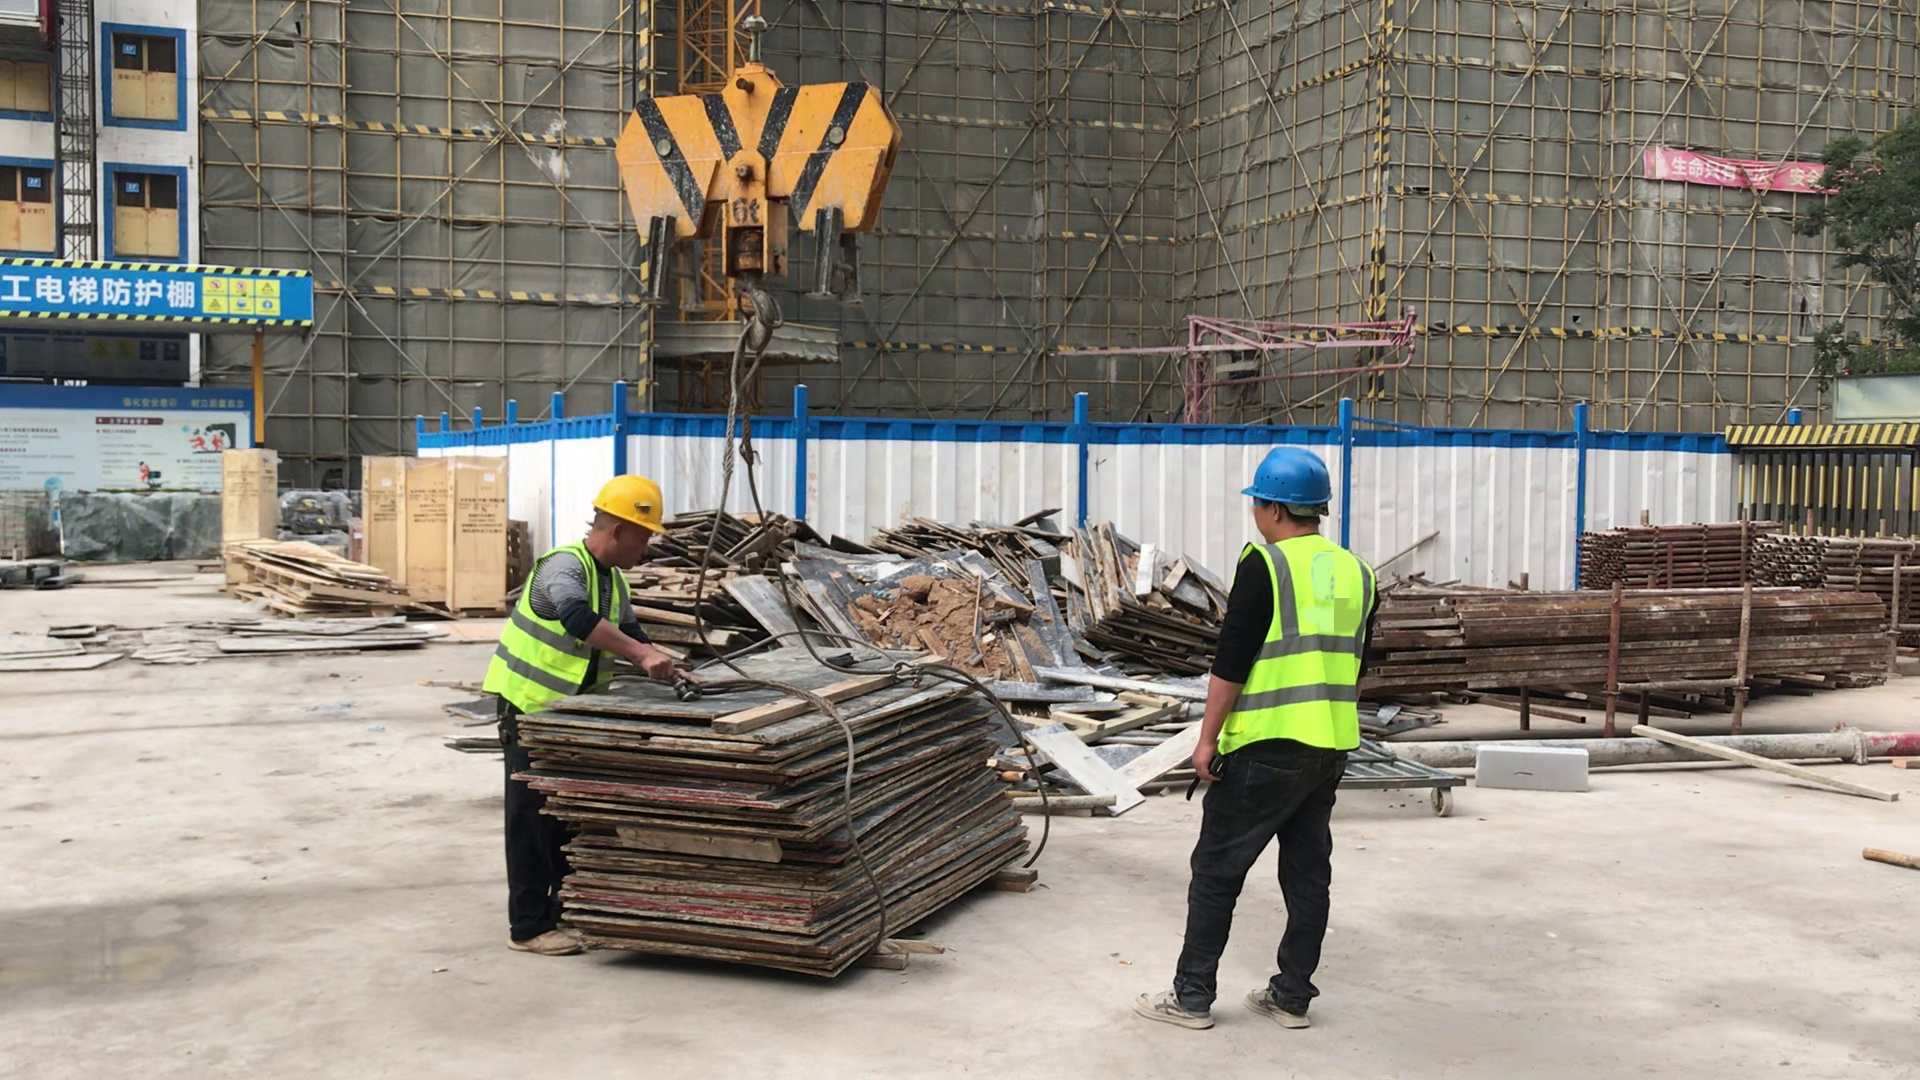board: (511, 642, 1043, 973)
helmet: (1241, 445, 1336, 510), (591, 472, 666, 539)
hook: (607, 62, 891, 351)
person: (1165, 446, 1379, 1034), (492, 469, 697, 965)
scaffold: (1578, 516, 1920, 602)
slogan: (2, 258, 311, 320), (1646, 149, 1880, 197)
vest: (1218, 530, 1380, 779), (492, 539, 628, 719)
